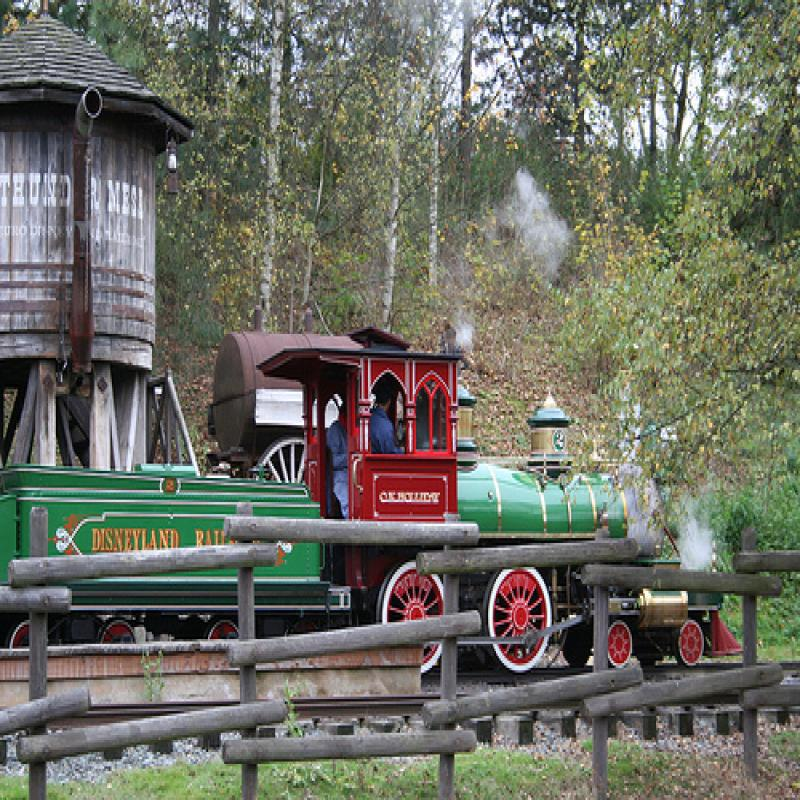train: (1, 328, 743, 669)
